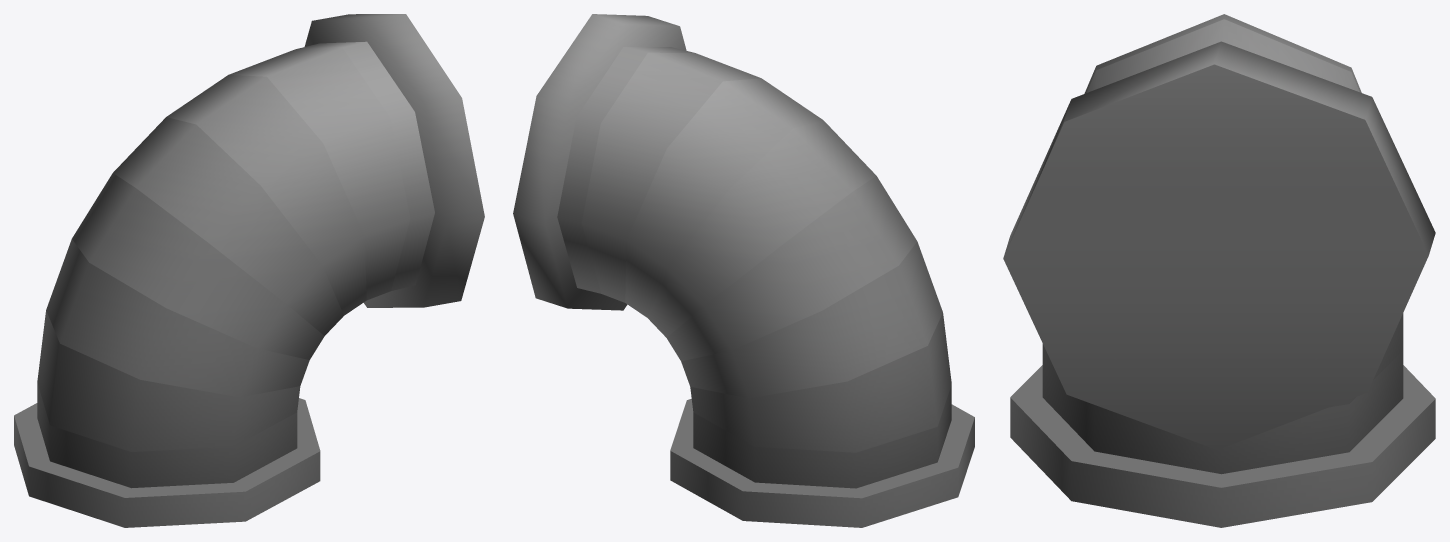
Rendered from Pipe3.glb.
3 renders of one model, left to right at view 1: azimuth 30°, elevation 25°; view 2: azimuth 150°, elevation 25°; view 3: azimuth 270°, elevation 25°, orthographic. The views are drawn at different scales.
Visible parts, largest first — view 1: Pipe3; view 2: Pipe3; view 3: Pipe3.
Part boxes in pixels (x1,y1,x2,y2): Pipe3: [14, 14, 484, 527]; Pipe3: [513, 14, 974, 527]; Pipe3: [1003, 14, 1435, 527].
Bounding box in the file's own units: 0.4074 × 0.411 × 0.3054.
Materials: 1 (1 with a texture image).
